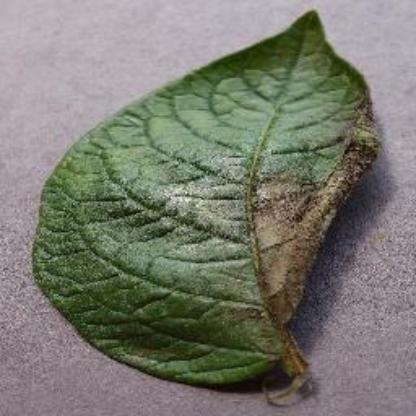Late-Blight: (34, 10, 384, 402)
